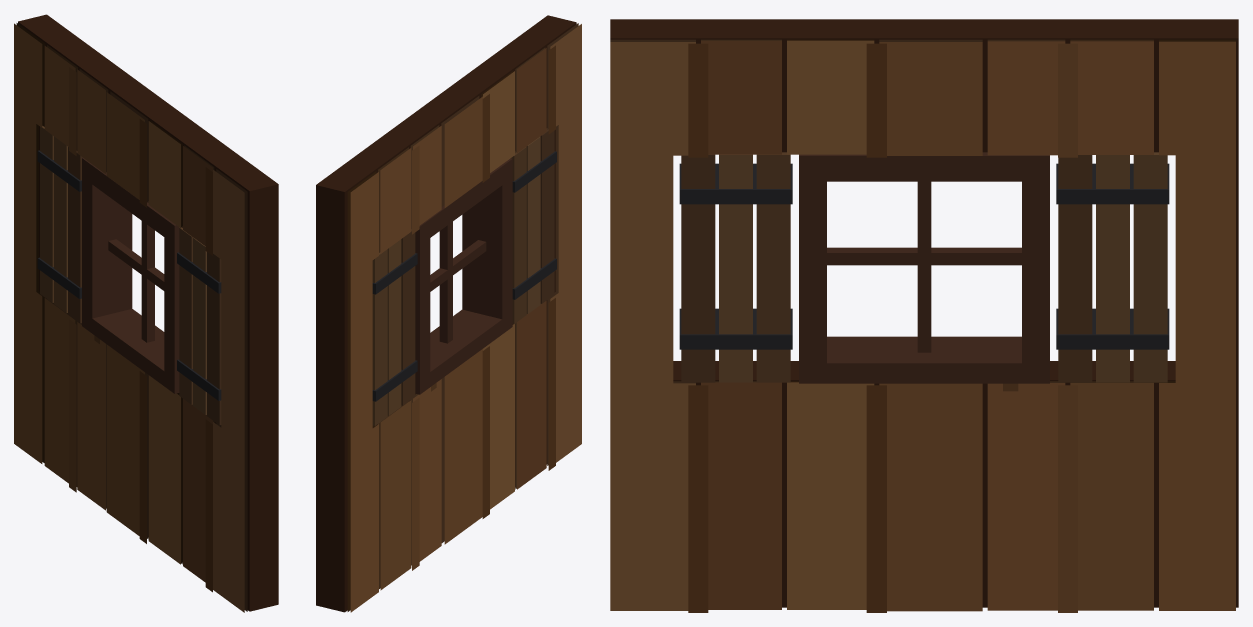
Rendered from wall-timber-window-shutters.glb.
The picture shows the model from 3 angles, left to right: view 1: azimuth 30°, elevation 25°; view 2: azimuth 150°, elevation 25°; view 3: azimuth 270°, elevation 25°; orthographic projection. The views are drawn at different scales.
Parts seen in each view (by area): view 1: wall-timber-window-shutters; view 2: wall-timber-window-shutters; view 3: wall-timber-window-shutters.
Part boxes in pixels (x1,y1,x2,y2): wall-timber-window-shutters: (14,14,278,612); wall-timber-window-shutters: (316,15,581,612); wall-timber-window-shutters: (610,19,1238,612).
Size of the model in its own units: 0.112 by 1 by 1.
